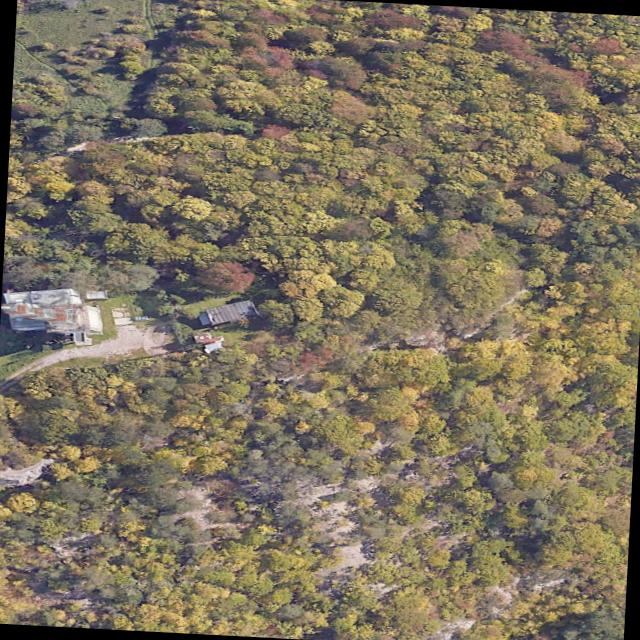building: (5, 324, 164, 395), (98, 295, 254, 355), (0, 284, 113, 359)
grass: (14, 0, 171, 134)
tree: (0, 0, 640, 640)
